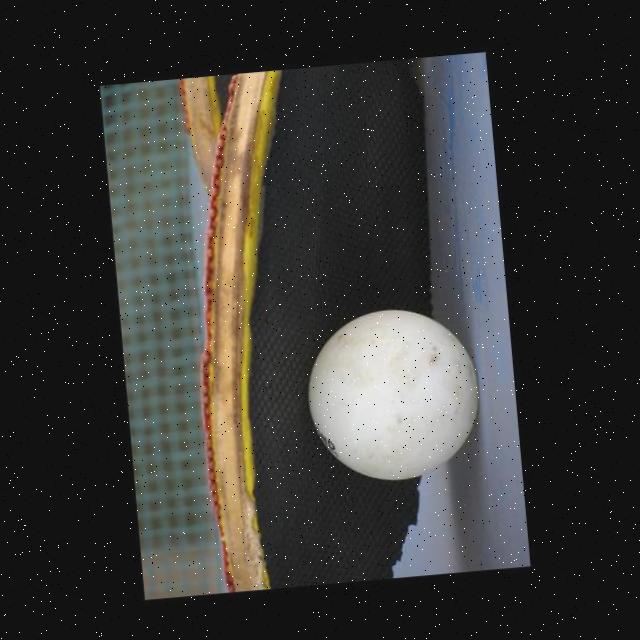ping-pong-ball: (296, 298, 490, 490)
